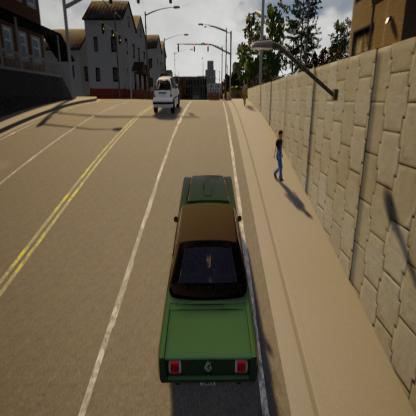Cars: (149, 155, 266, 416), (140, 58, 188, 135)
Pedestrian: (266, 105, 293, 199)
